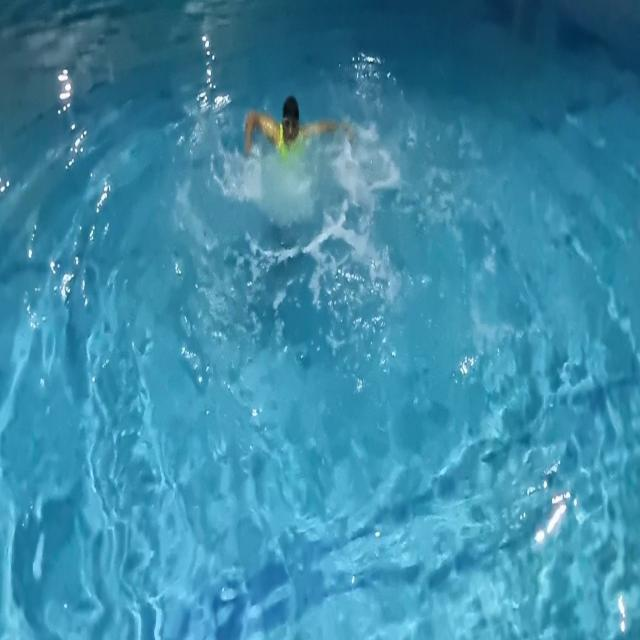Swimming: (221, 82, 391, 238)
